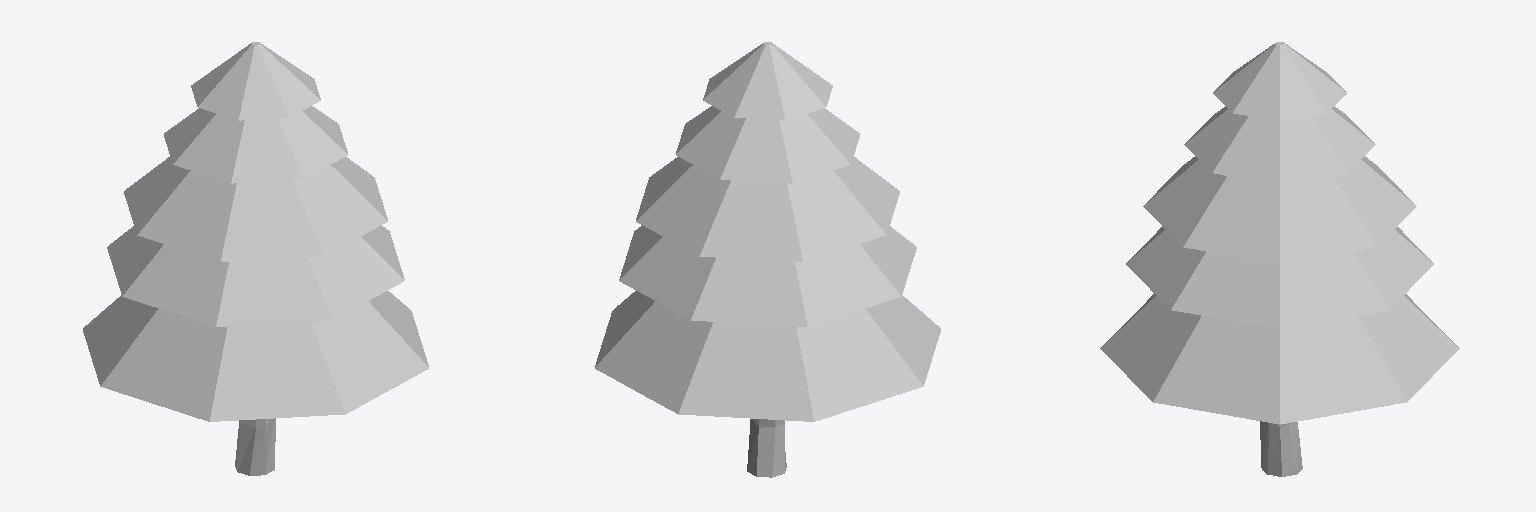
Rendered from Tree2.obj.
3 views of the same model, side by side, from view 1: azimuth 30°, elevation 25°; view 2: azimuth 150°, elevation 25°; view 3: azimuth 270°, elevation 25° (orthographic).
Parts seen in each view (by area): view 1: Tree2; view 2: Tree2; view 3: Tree2.
Part boxes in pixels (bbox=[...]): Tree2: bbox=[83, 42, 428, 475]; Tree2: bbox=[595, 42, 940, 477]; Tree2: bbox=[1100, 42, 1459, 476].
Size of the model in its own units: 2.81 by 3.67 by 2.81.